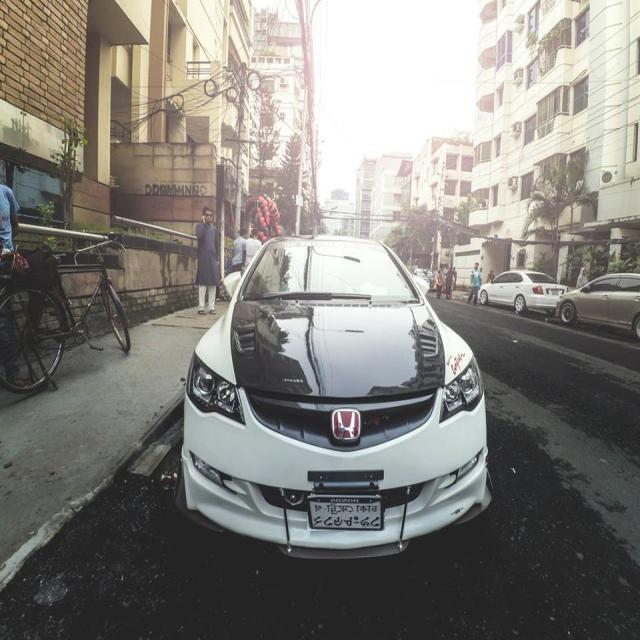numberplate: (307, 493, 385, 531)
